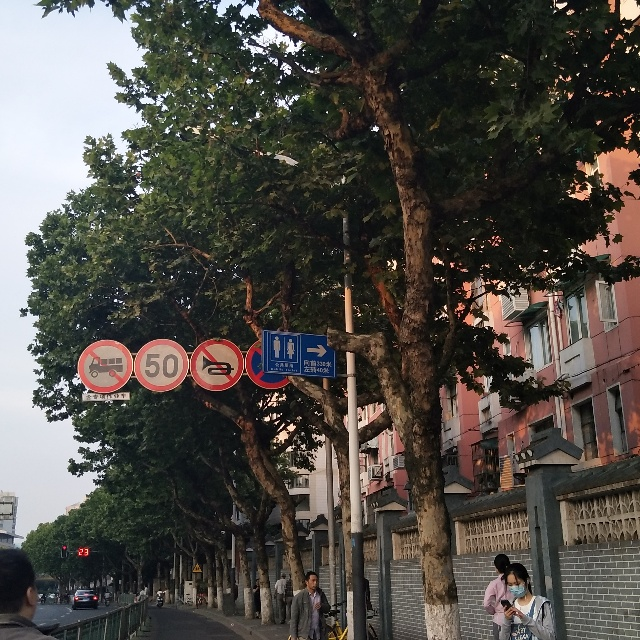nohonk: (187, 338, 244, 388)
